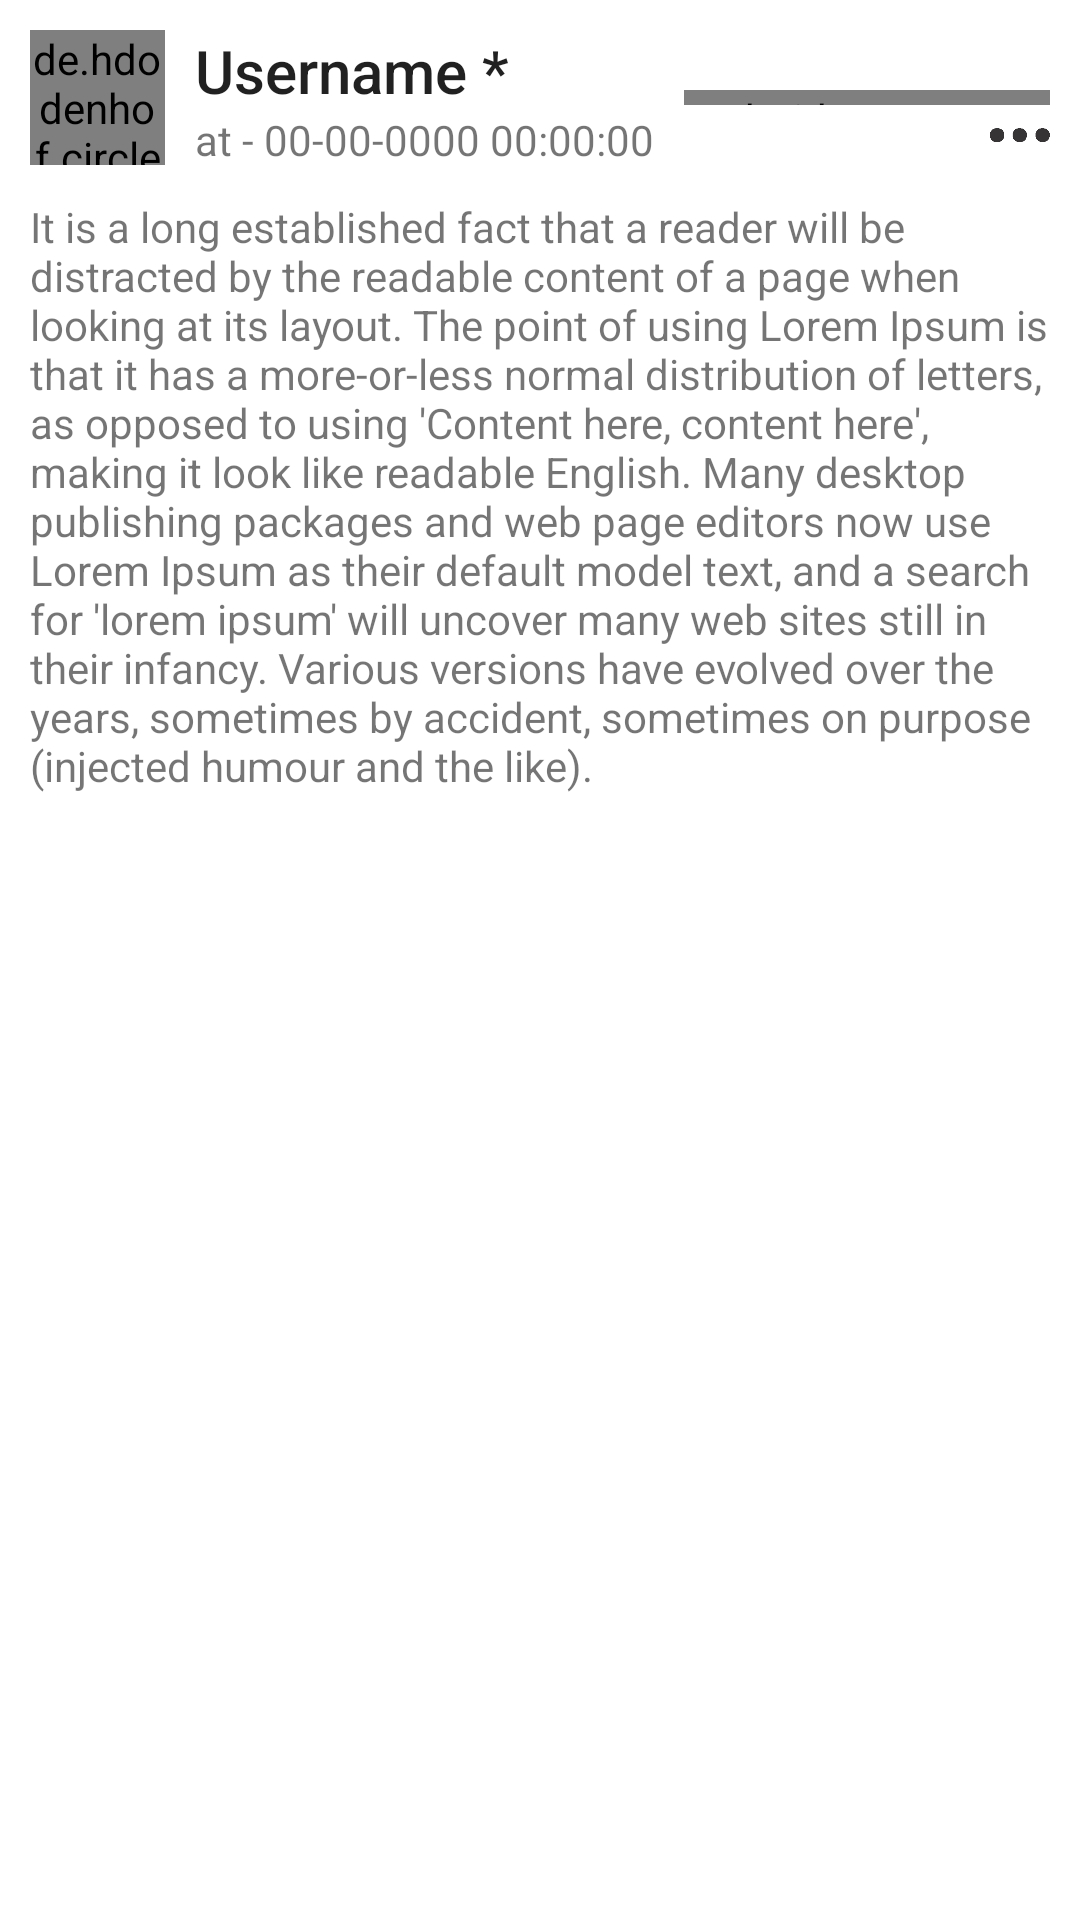

Icons on this 1080w x 1920h Android screen, each with its box as (x1, y1, x2, y2):
more options: (990, 128, 1050, 142)
